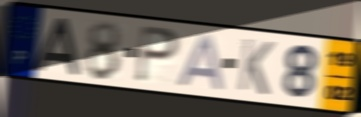8: (83, 19, 126, 82), (281, 42, 320, 101)
A: (31, 16, 82, 77), (175, 32, 226, 92)
K: (236, 36, 276, 98)
P: (133, 24, 181, 86)
